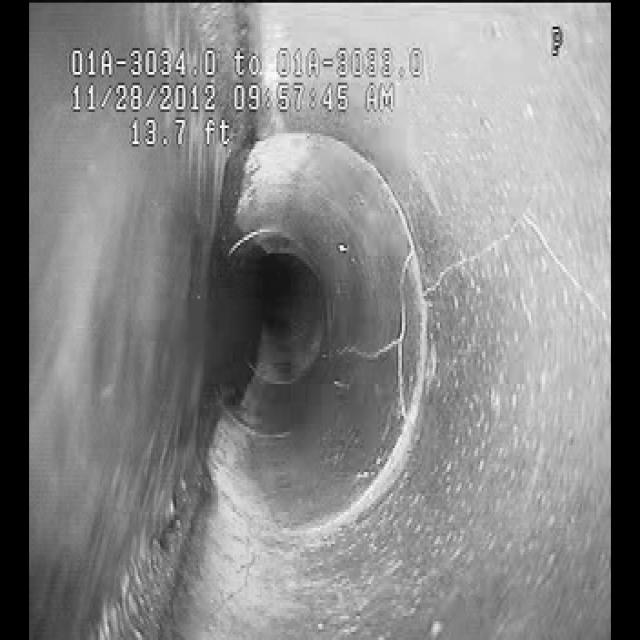Crack: (464, 179, 586, 321), (335, 254, 429, 415)
